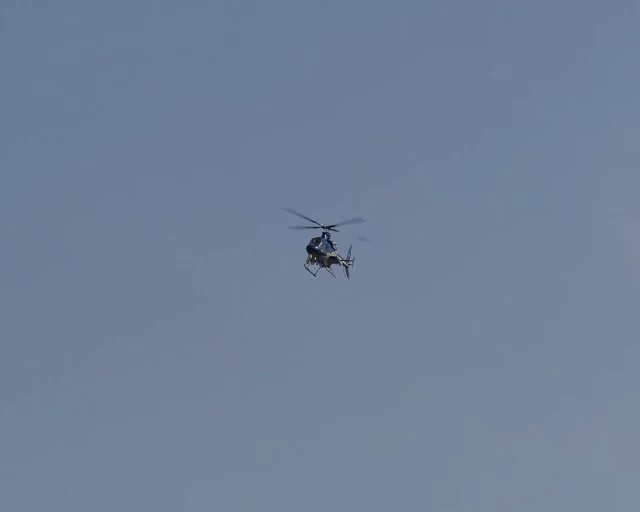HELICOPTER: (282, 205, 369, 279)
